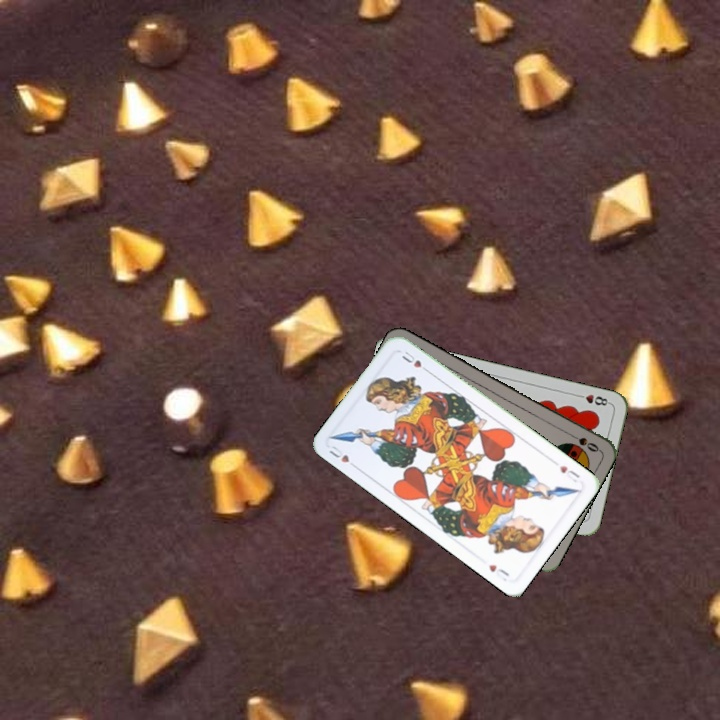H8: (573, 390, 613, 408)
HU: (325, 442, 360, 471), (555, 461, 583, 485)
SO: (564, 429, 602, 455)
